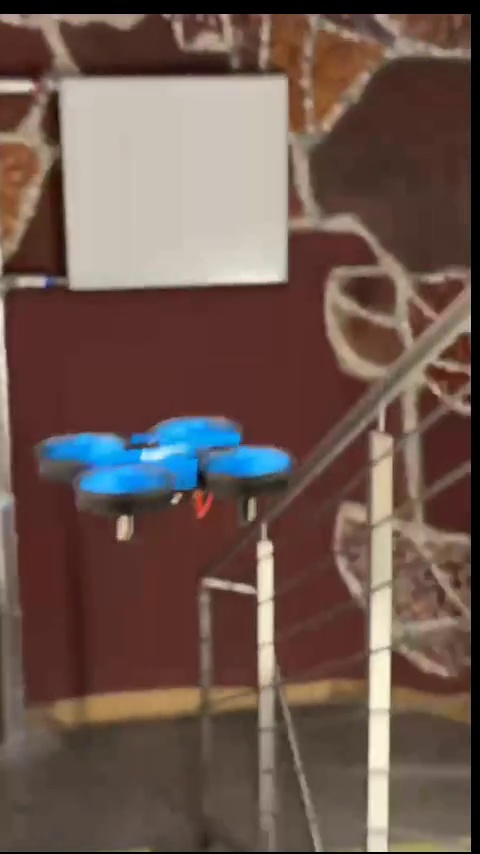drone: (38, 416, 290, 535)
